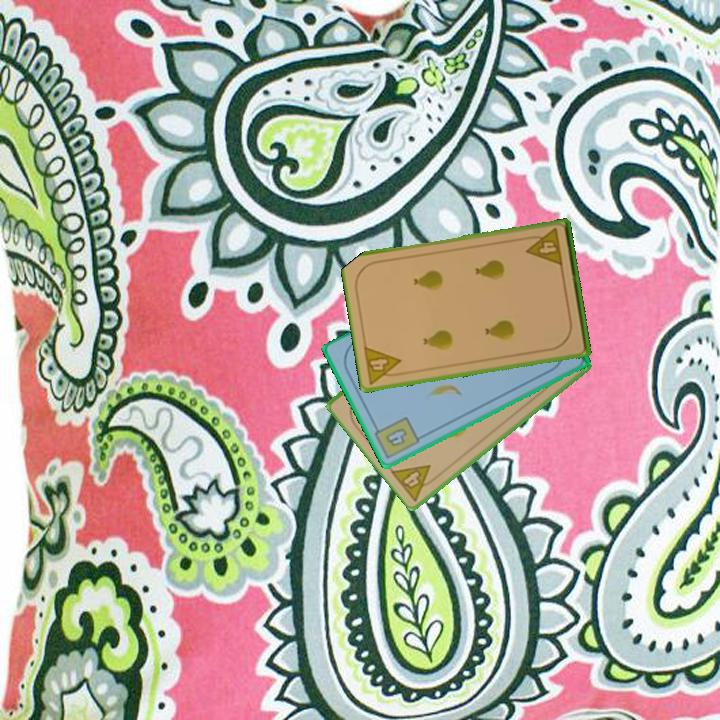4b: (370, 413, 423, 462)
4p: (387, 461, 443, 504), (361, 343, 407, 387), (522, 225, 566, 269)
